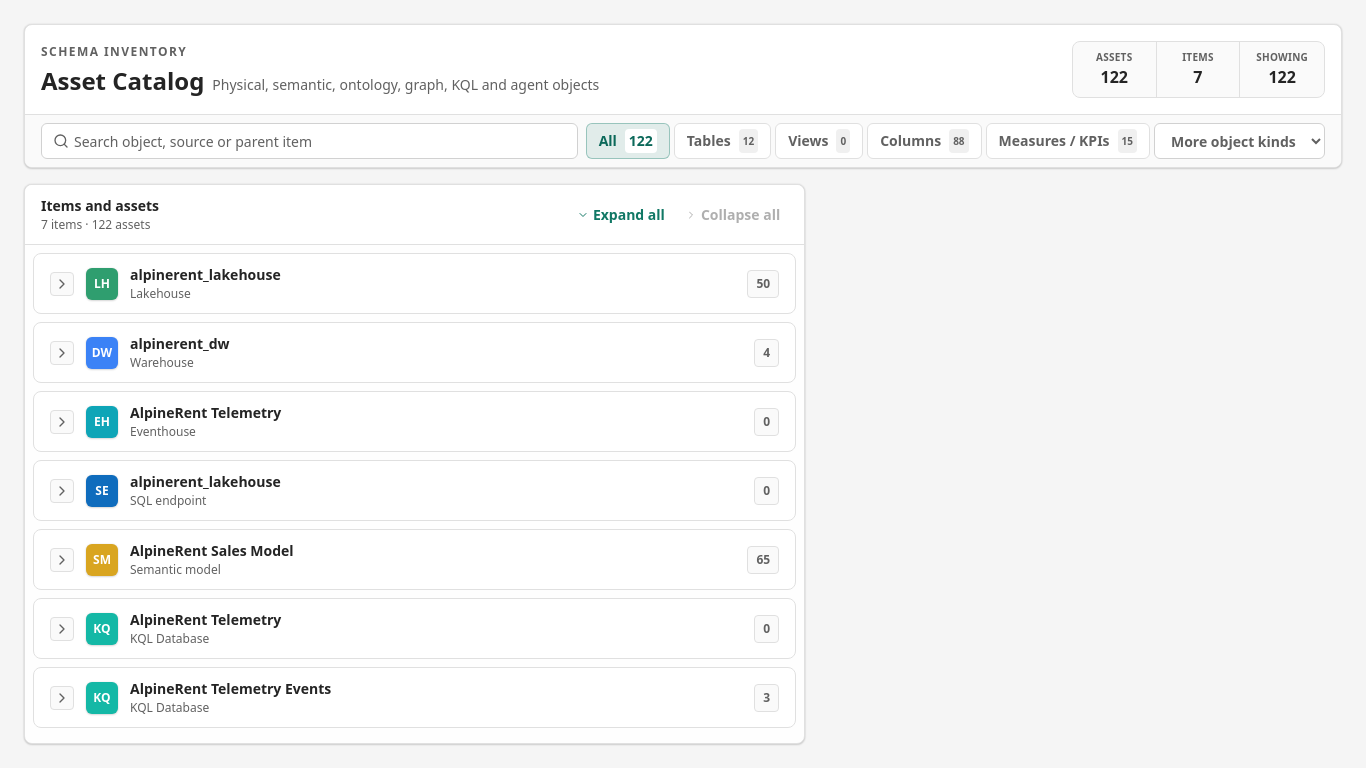
Scenario: AssetCatalogView › keeps real assets visible when searching by item type
This screenshot has width=1366, height=768.
Type "Warehouse" into the field named "Search assets". click: (309, 141)
box: [41,123,578,159]
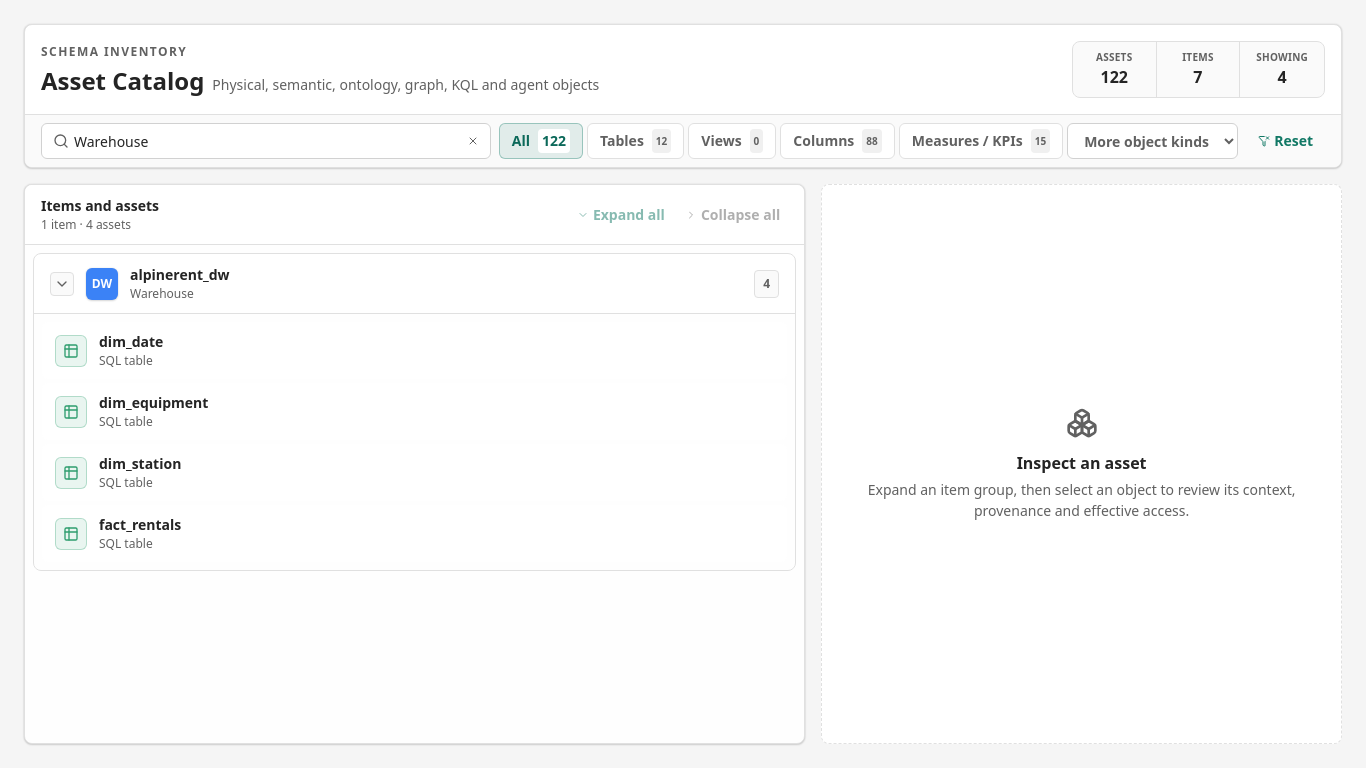
Result: the text "dim_date" is shown at [99,332,163,351]
